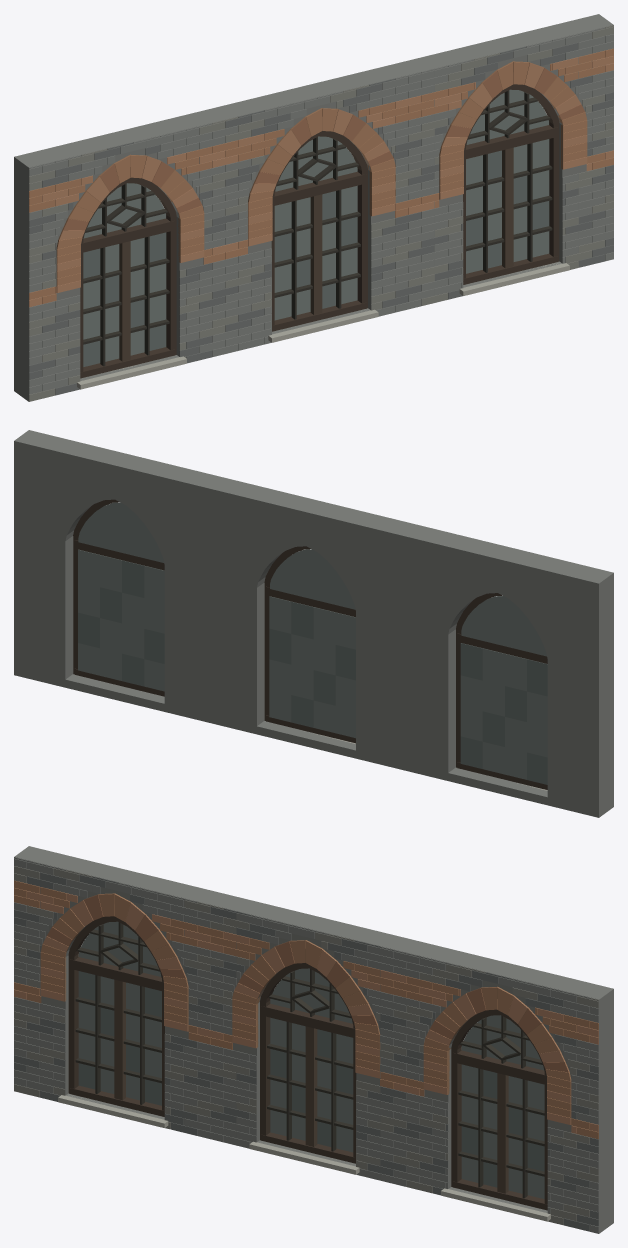
File: pudong-sanlin-academy-east-triple-arched-windows-web.glb
3 renders of one model, top to bottom at view 1: azimuth 30°, elevation 25°; view 2: azimuth 150°, elevation 25°; view 3: azimuth 330°, elevation 25°, orthographic.
Parts seen in each view (by area): view 1: 三林书院筠修精舍东墙三联红砖拱窗; view 2: 三林书院筠修精舍东墙三联红砖拱窗; view 3: 三林书院筠修精舍东墙三联红砖拱窗.
Boxes of the visible parts, bbox=[...] form: 三林书院筠修精舍东墙三联红砖拱窗: bbox=[14, 14, 613, 401]; 三林书院筠修精舍东墙三联红砖拱窗: bbox=[14, 430, 613, 817]; 三林书院筠修精舍东墙三联红砖拱窗: bbox=[14, 846, 613, 1233].
Size of the model in its own units: 6.48 by 2.48 by 0.36.
